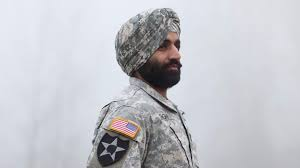helmet: (111, 7, 186, 92)
